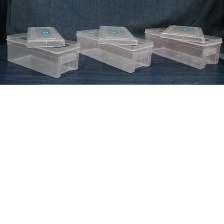plastic_box: (0, 21, 84, 81), (70, 20, 157, 77), (139, 20, 224, 72)
